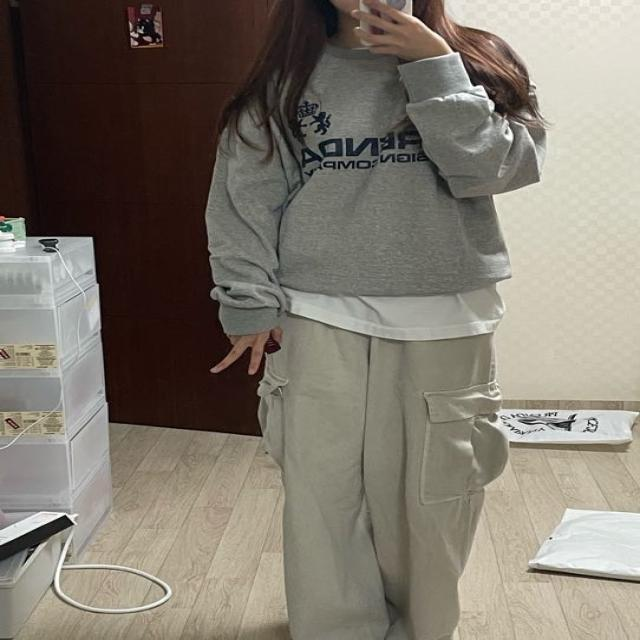cottonpants: (257, 306, 509, 637)
mtm: (203, 1, 547, 337)
